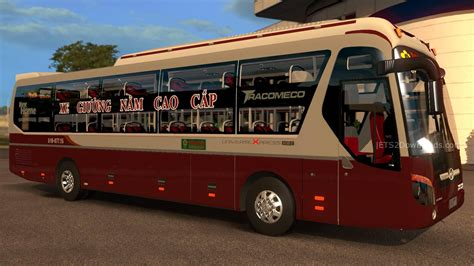bus: (9, 32, 465, 229)
